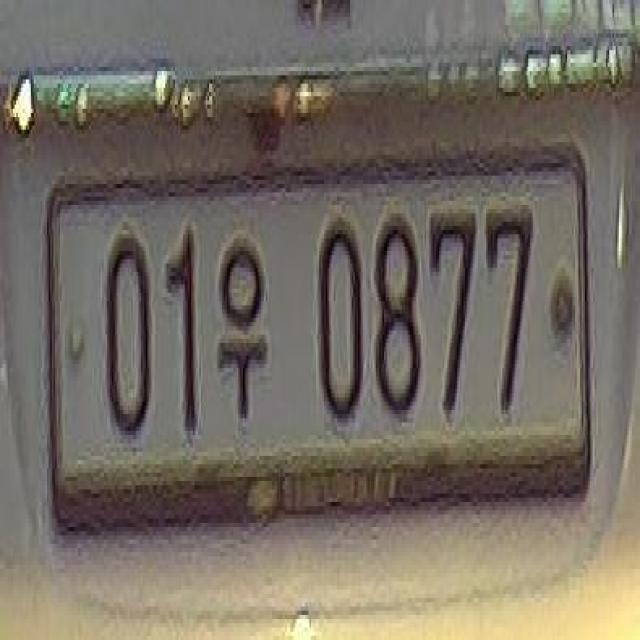illegal_plate: (48, 149, 598, 529)
